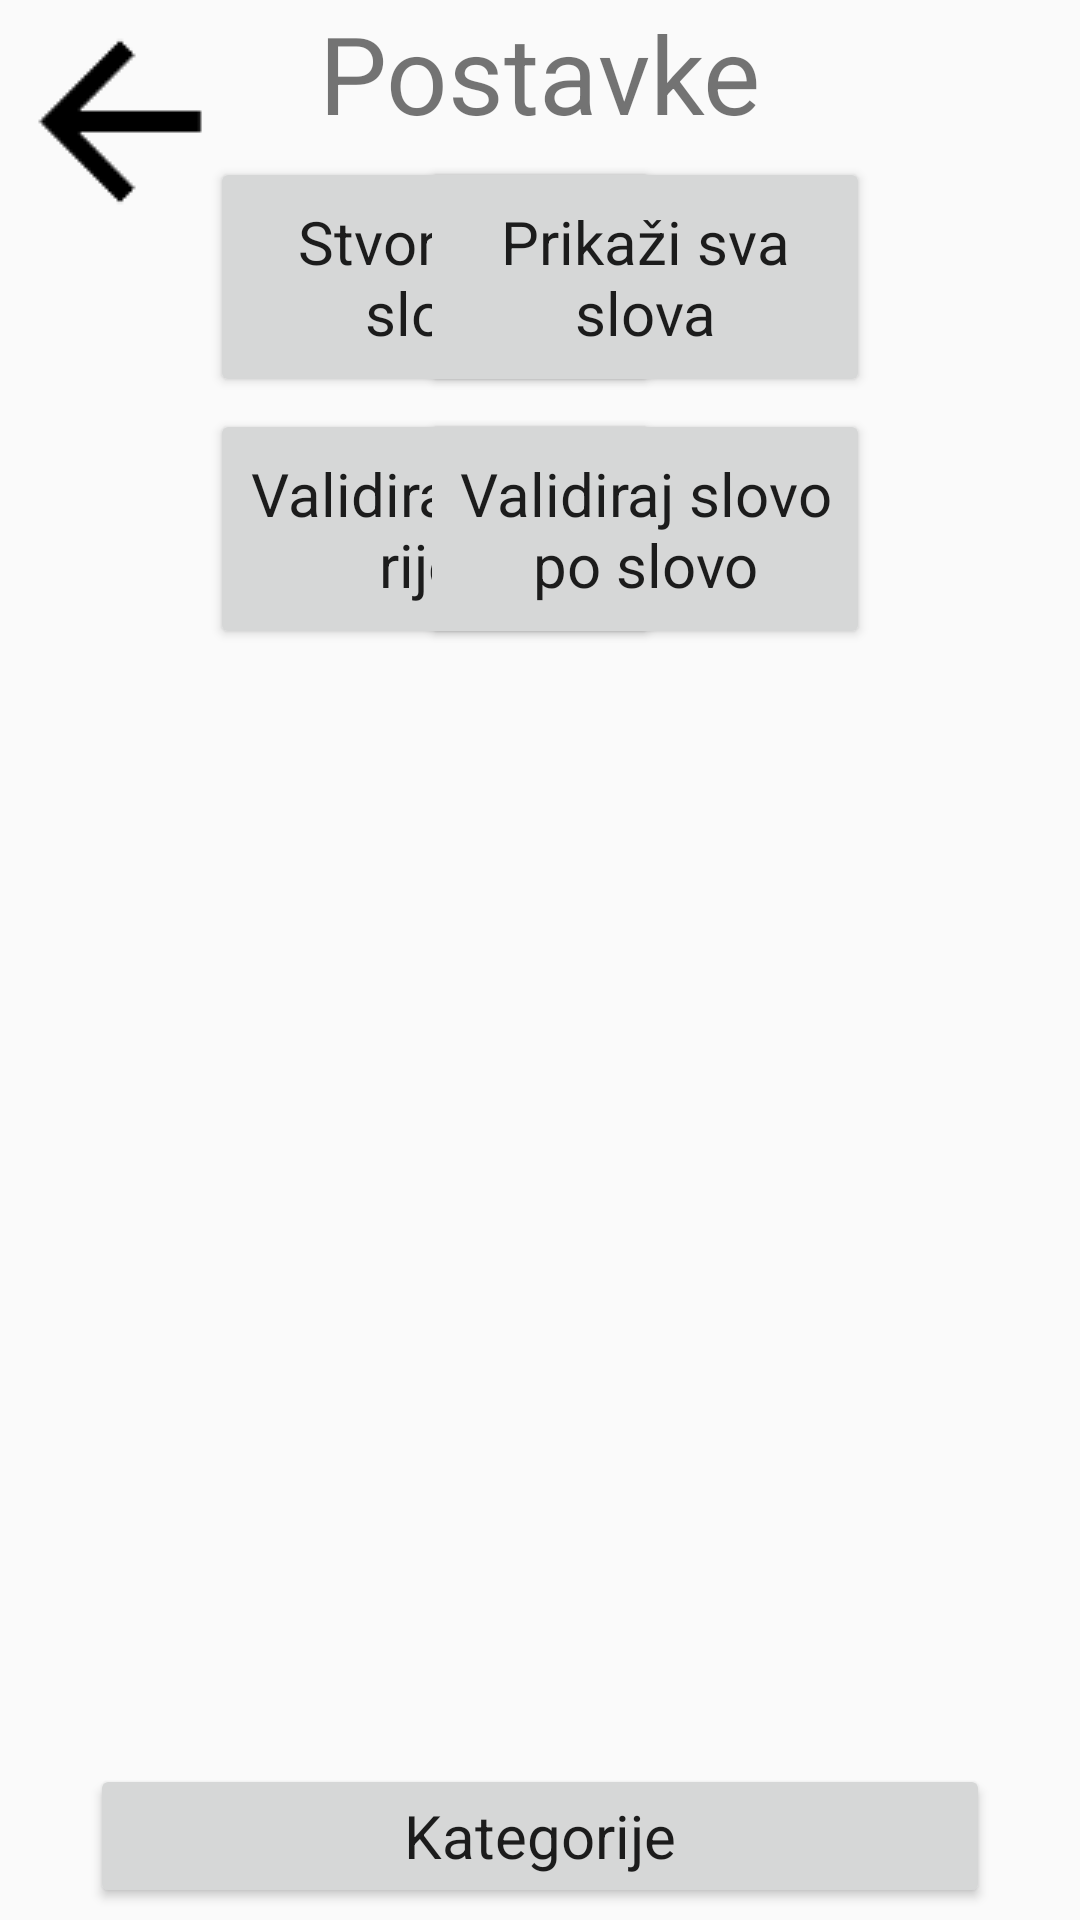

Where to tap for icons on this 1080px×1920px app screen, as (x=x, y=y):
back arrow: (x=120, y=121)
